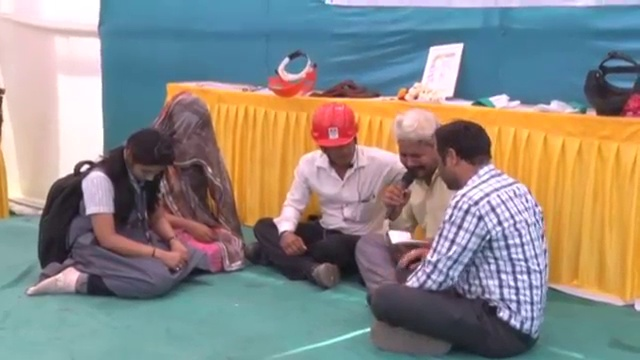helmet: (305, 99, 365, 140)
helmet_off: (434, 119, 495, 191), (114, 127, 177, 191), (157, 96, 212, 158), (396, 110, 440, 176)
helmet_on: (306, 100, 367, 173)
person: (367, 120, 549, 351), (244, 101, 406, 282), (27, 129, 194, 301), (143, 83, 249, 273), (352, 111, 459, 293)
